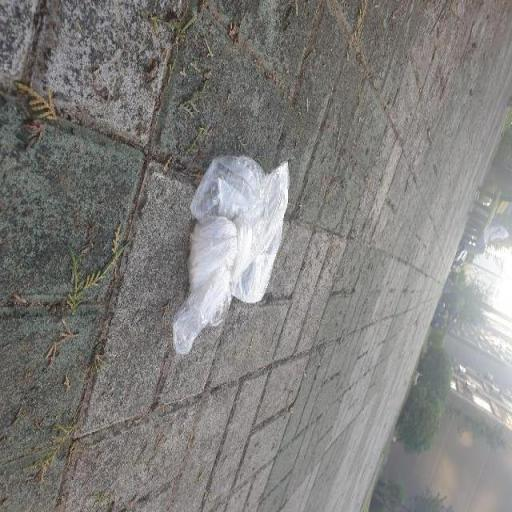plastic-bag: (170, 154, 287, 361)
